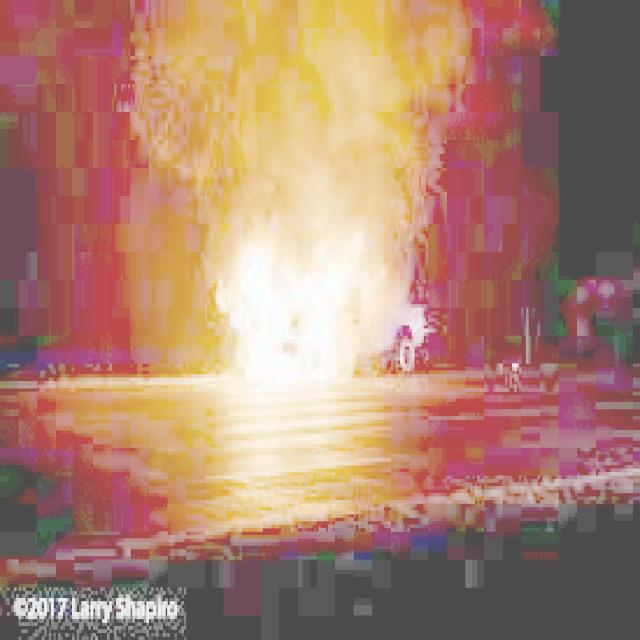api: (211, 190, 404, 386)
